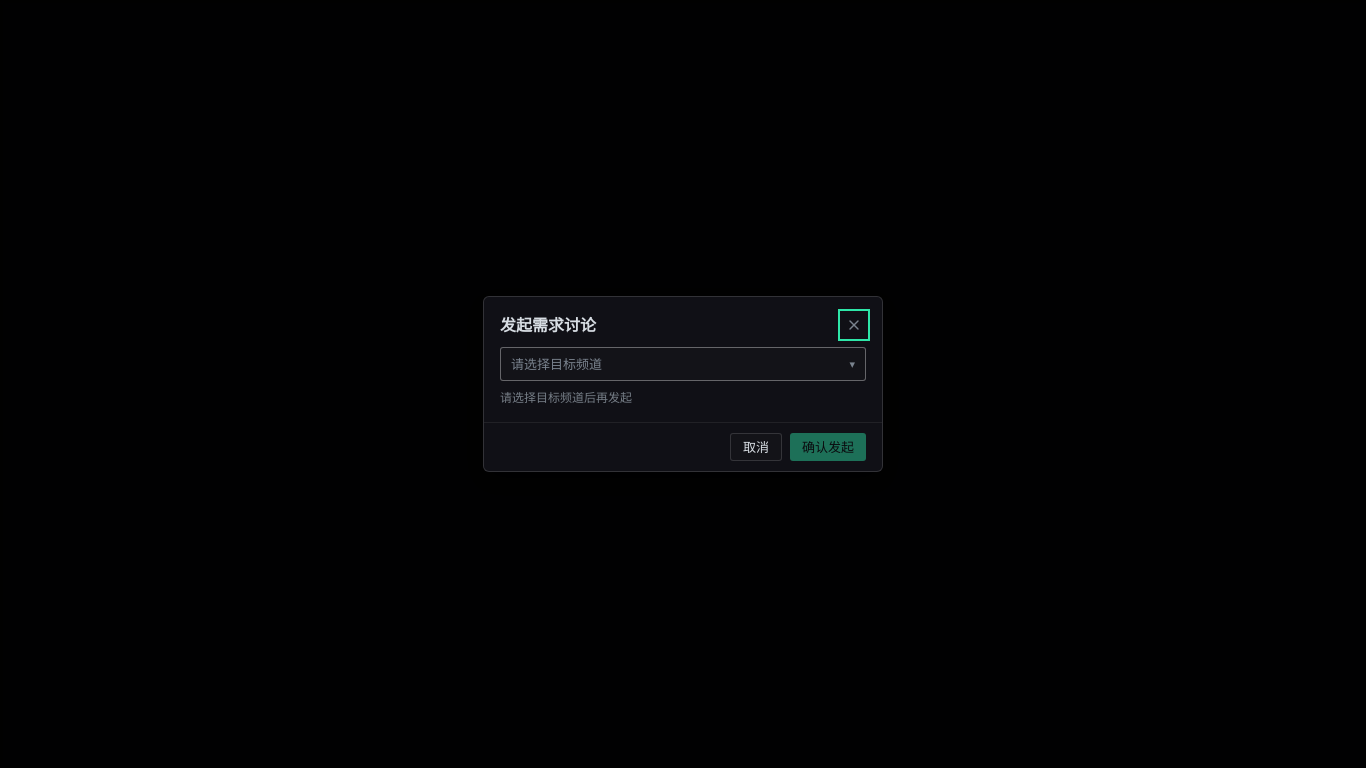
PublishProjectDialog #290 空成员语义与频道选项 › 频道下拉列出打开时自取的全部频道（不止 props 挂载期的滞后子集）
The image size is (1366, 768).
Step 1. Click the button "请选择目标频道 ▾" → {"x": 557, "y": 364}, box [500,347,866,381]
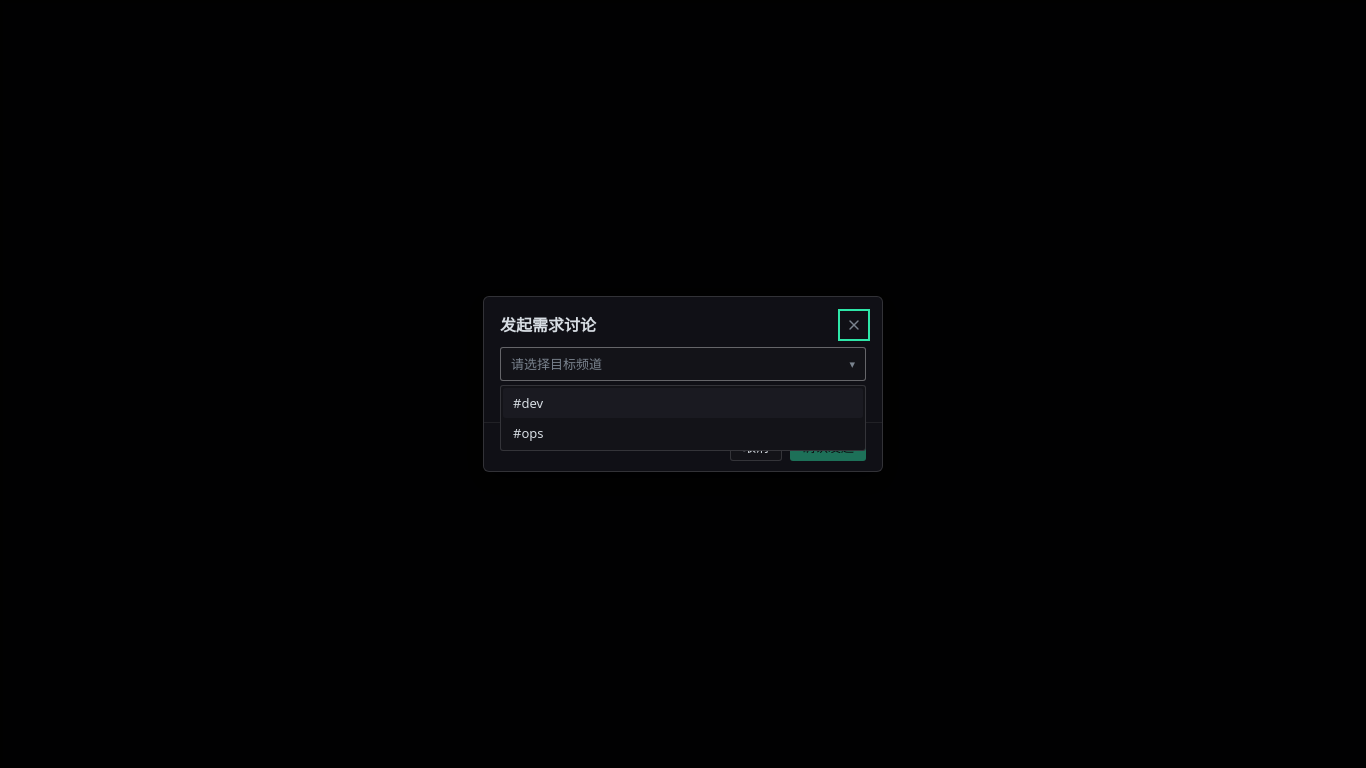
Now the option "#ops" is shown, box [513,424,544,442]
Now the option "#dev" is shown, box [503,388,863,418]
